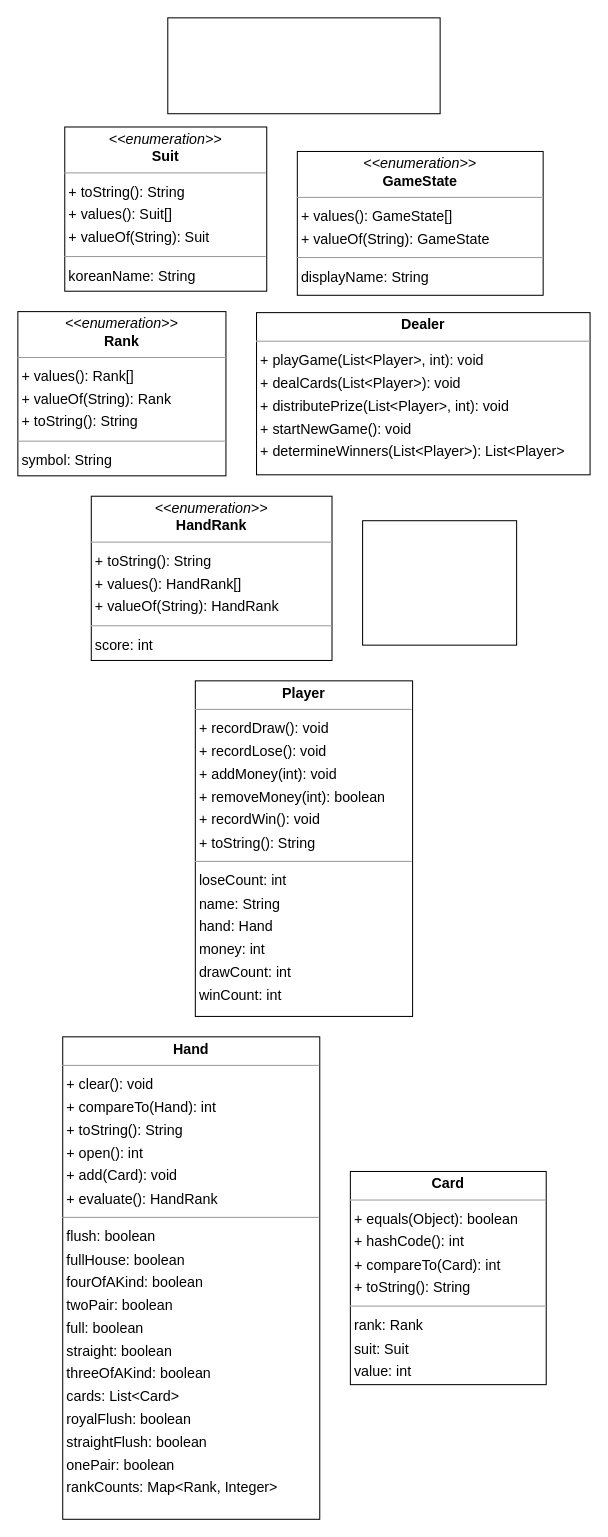
This 608x1537 diagram has some shape labels left out. Each missing label, with the centre of its shape:
"Casino - printFinalResults(List<Player>): void + main(String[]): void" goes at point (303, 65).
"Deck + shuffle(): void + drawCard(): Card empty: boolean" goes at point (439, 582).
